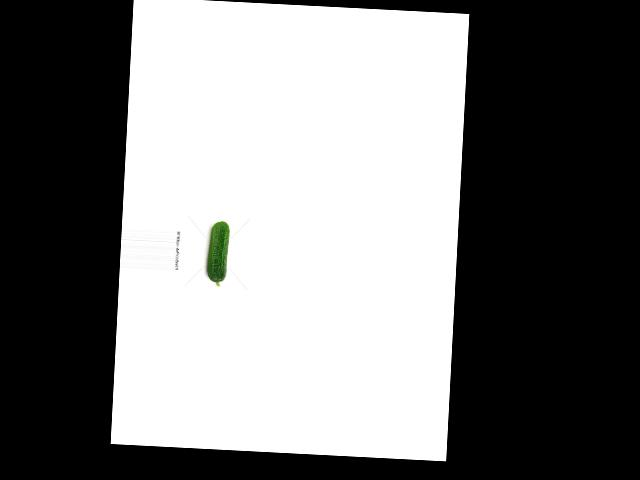cucumber: (206, 219, 229, 286)
